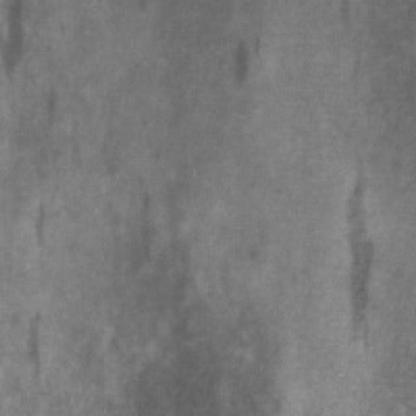inclusion: (119, 224, 270, 408), (335, 162, 383, 350), (227, 29, 272, 96), (25, 310, 62, 391), (4, 0, 40, 75)
